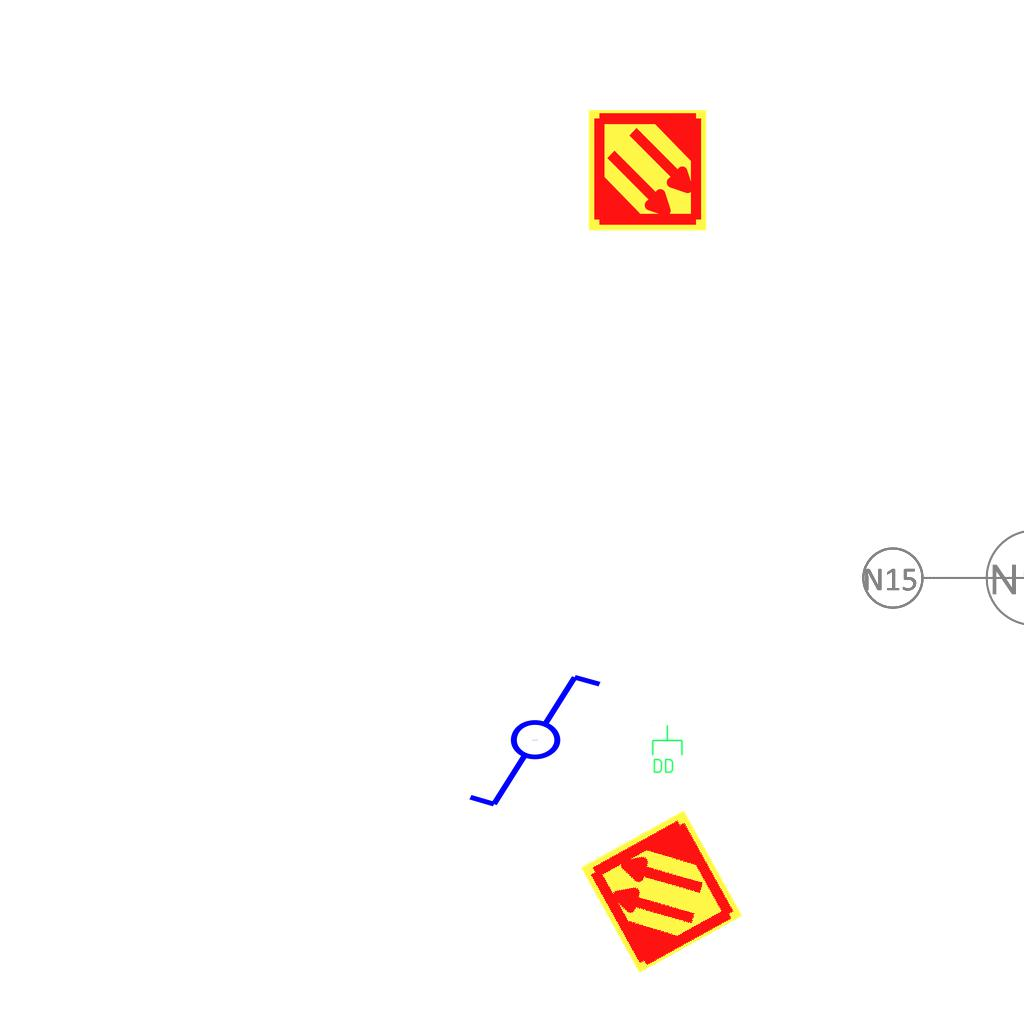ASR_Ansaugrauchmelder: (576, 806, 747, 977), (585, 108, 710, 233)
Datenanschluss_zweifach: (650, 724, 684, 775)
Wechselschalter: (465, 670, 622, 814)
